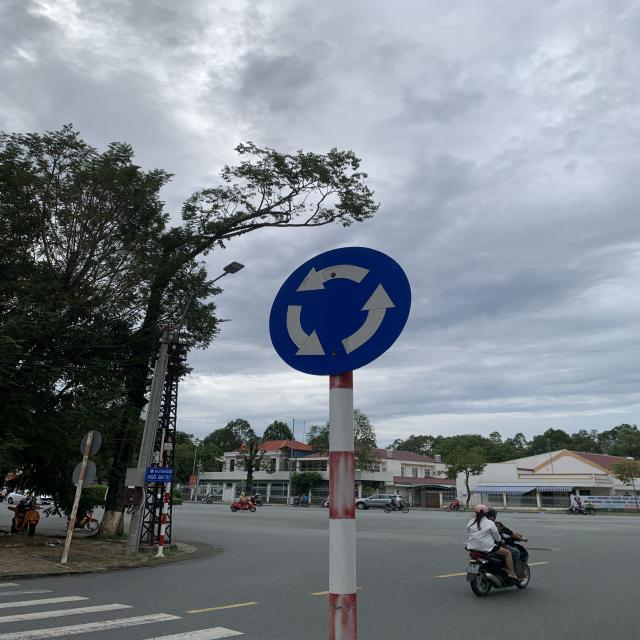Xe_Bus: (267, 246, 414, 378)
